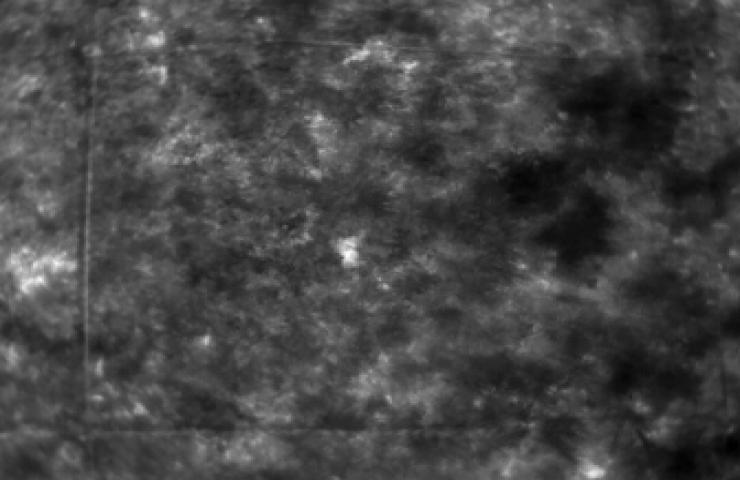landmines: (330, 233, 372, 266)
